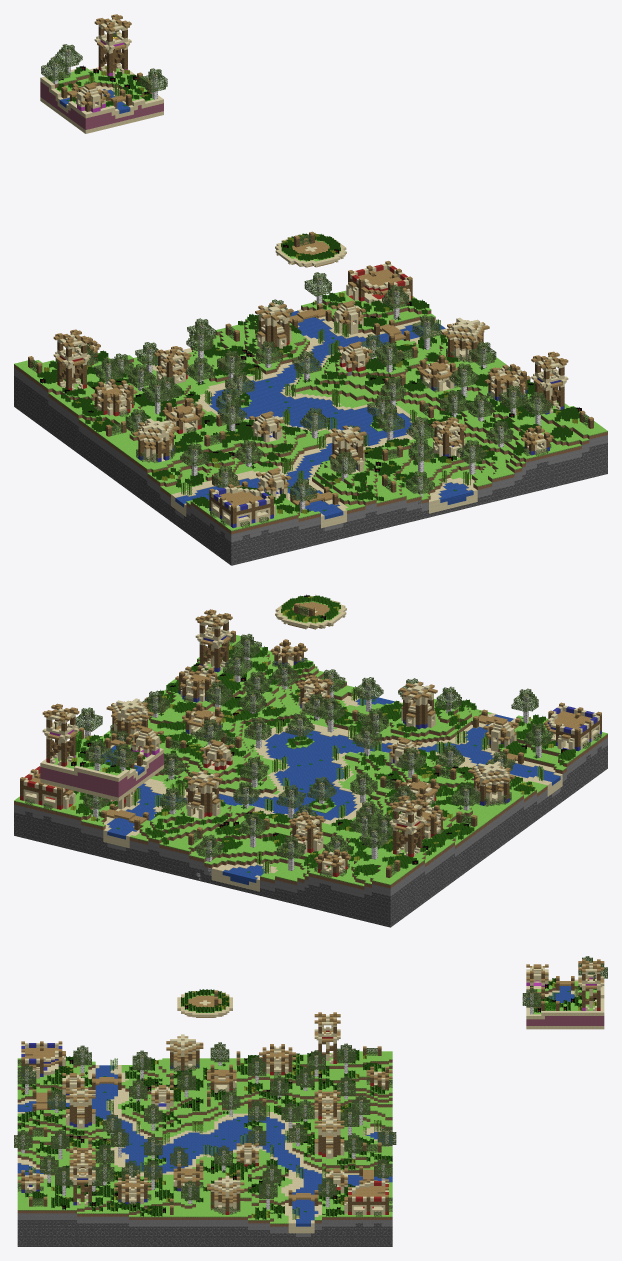
Rendered from minecraft.obj.
3 views of the same model, one above another, from view 1: azimuth 30°, elevation 25°; view 2: azimuth 150°, elevation 25°; view 3: azimuth 270°, elevation 25° (orthographic). The views are drawn at different scales.
Size of the model in its own units: 101 by 64 by 160.
